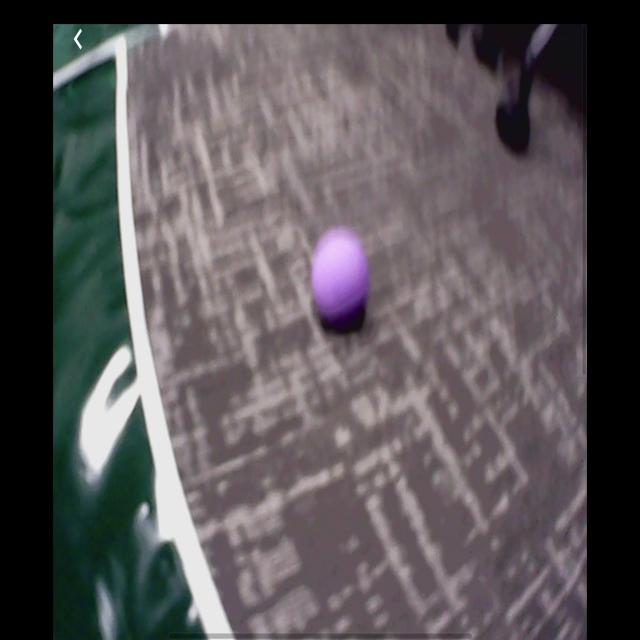ball: (310, 226, 371, 335)
